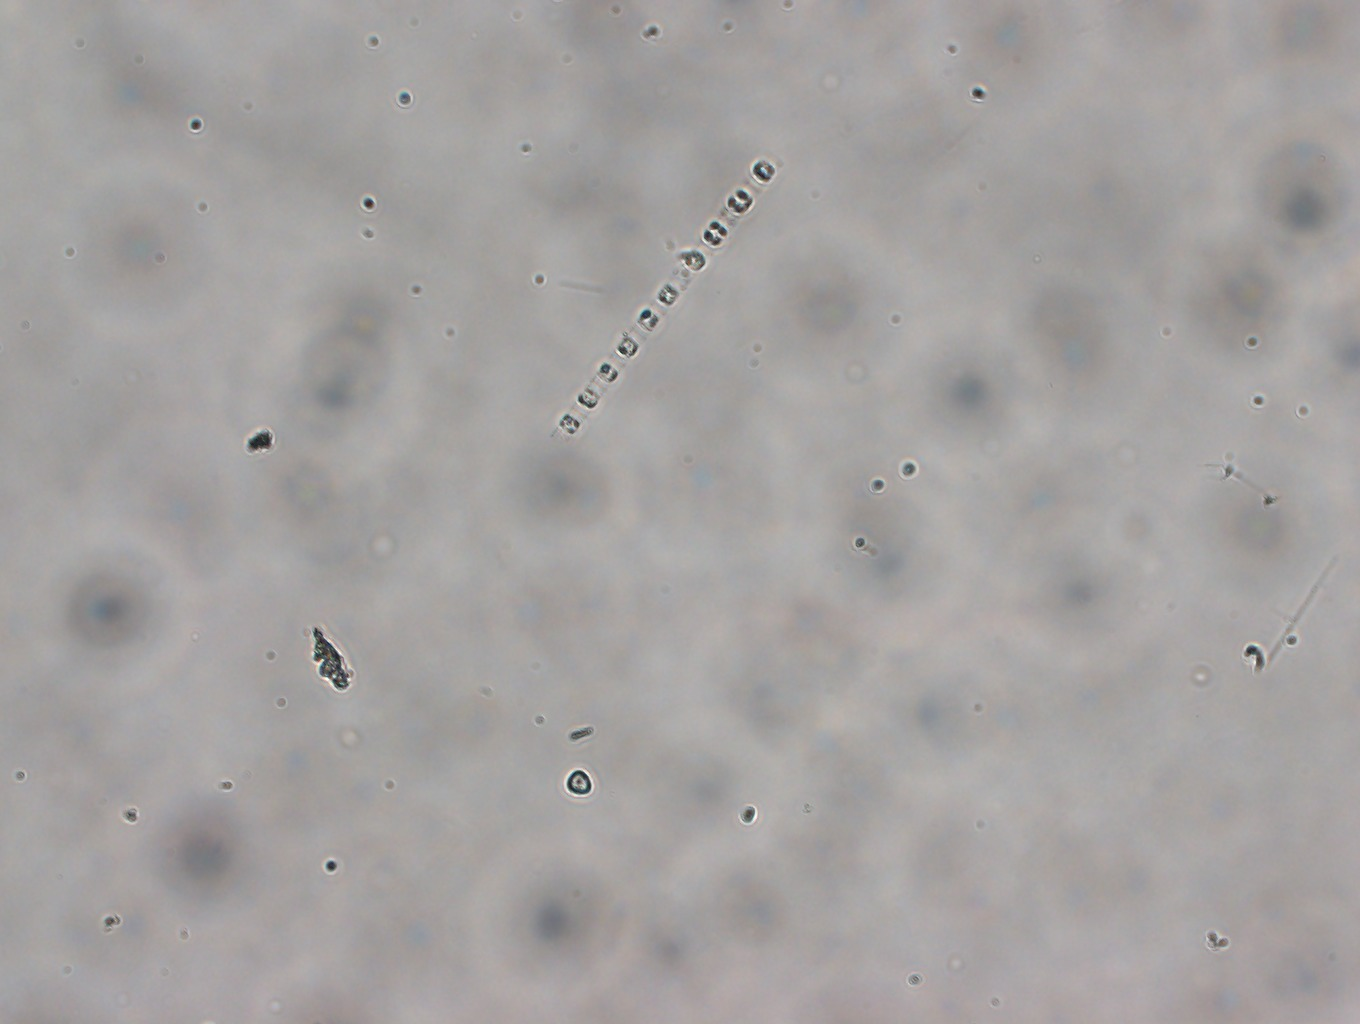skeletonema: (539, 146, 783, 447)
